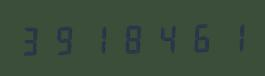eight: (116, 20, 148, 55)
four: (149, 19, 181, 55)
nine: (50, 21, 82, 56)
one: (83, 20, 115, 56), (215, 18, 247, 53)
six: (182, 19, 214, 54)
three: (17, 22, 49, 57)
